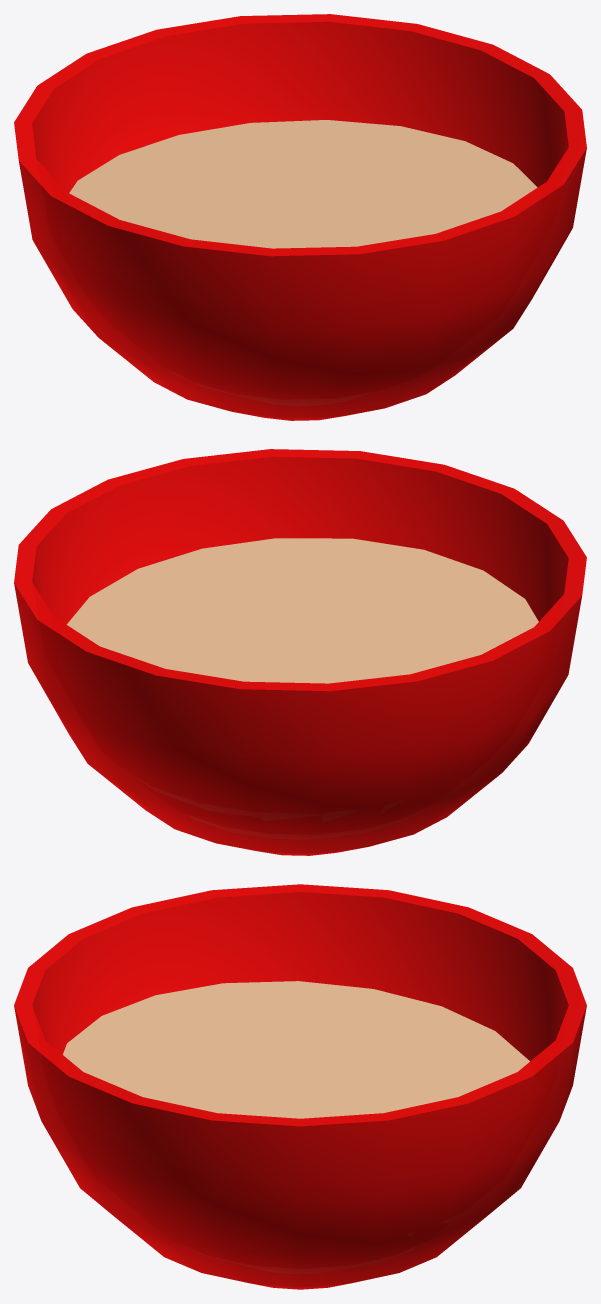
Rendered from cake mixing bowl.fbx.
The picture shows the model from 3 angles, top to bottom: view 1: azimuth 30°, elevation 25°; view 2: azimuth 150°, elevation 25°; view 3: azimuth 270°, elevation 25°; orthographic projection.
Parts seen in each view (by area): view 1: bowl, Sphere001; view 2: bowl, Sphere001; view 3: bowl, Sphere001.
Part boxes in pixels (<box>): bowl: <box>14,14,586,420</box>; Sphere001: <box>69,120,537,248</box>; bowl: <box>14,449,586,855</box>; Sphere001: <box>66,538,538,683</box>; bowl: <box>14,884,586,1289</box>; Sphere001: <box>63,981,529,1118</box>.
Bounding box in the file's own units: 102 × 102 × 49.12.
